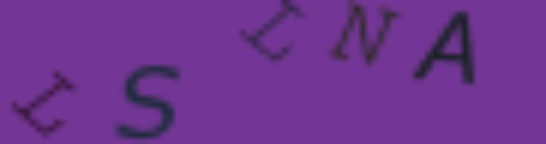A: (411, 8, 479, 87)
L: (10, 67, 79, 140), (240, 1, 304, 65)
N: (330, 1, 398, 69)
S: (112, 63, 182, 144)
